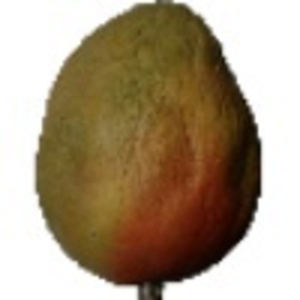mamão: (32, 4, 266, 295)
